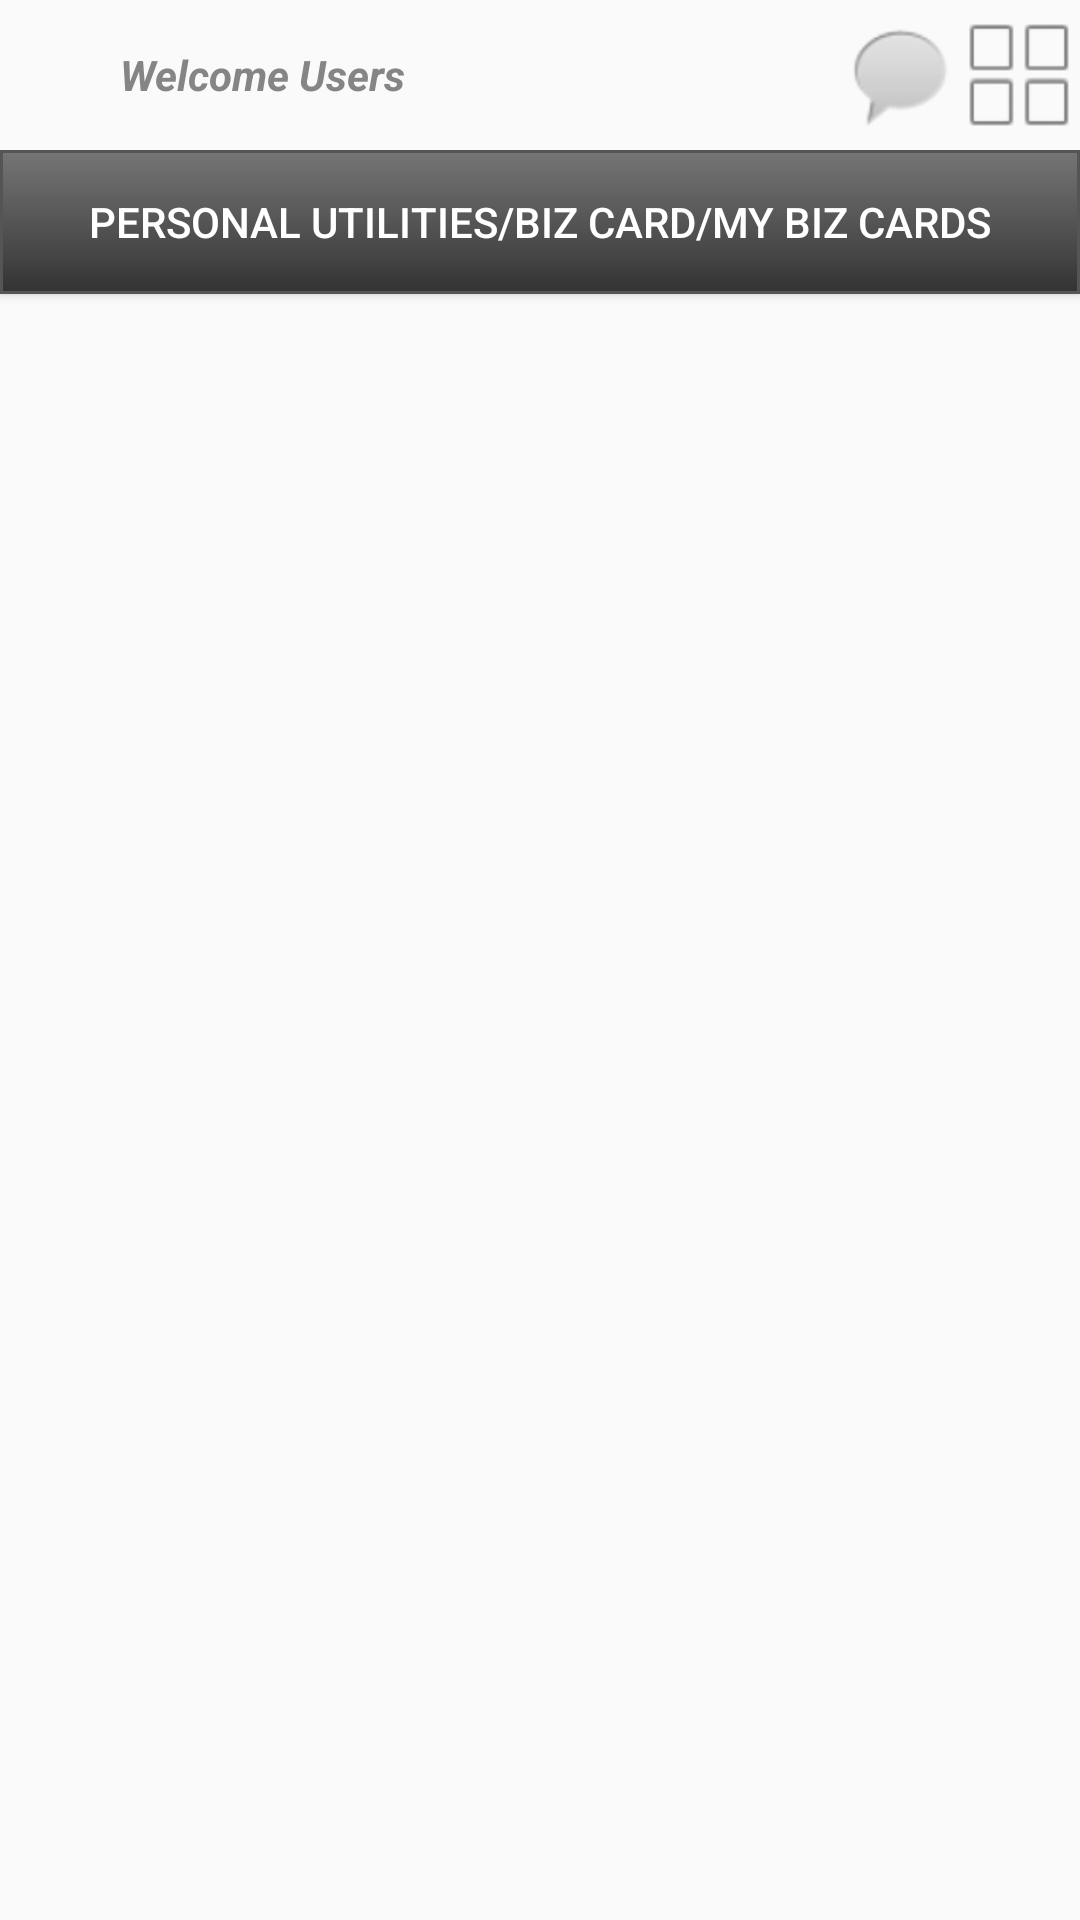

Point at icon controls on the screen. Image size 1080 × 1920, points as [x,y].
menu: [1019,75]
sym action chat: [899,77]
